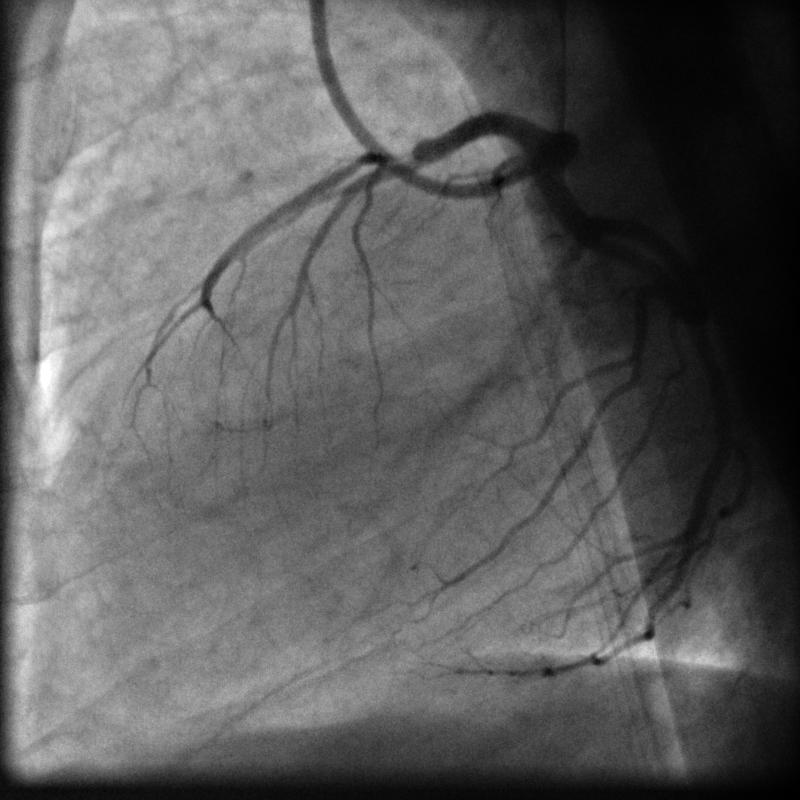Stenosis: (376, 138, 427, 185)
